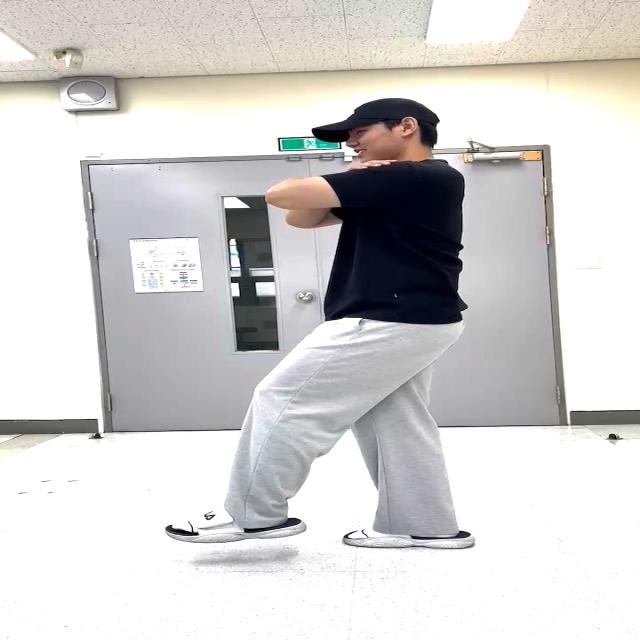leg: (134, 313, 399, 578)
